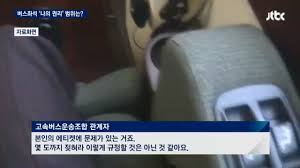seat: (211, 14, 266, 54)
